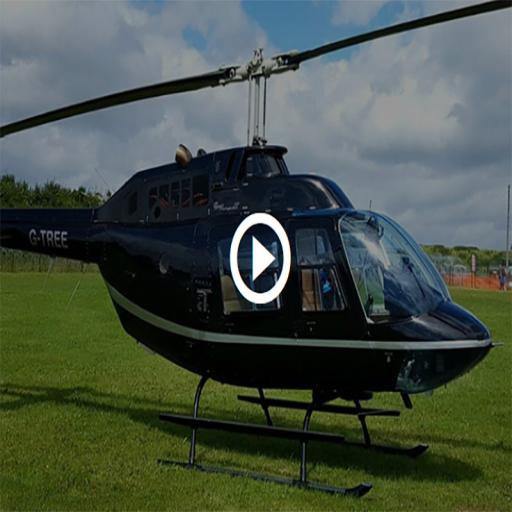helicopter: (23, 2, 512, 501)
